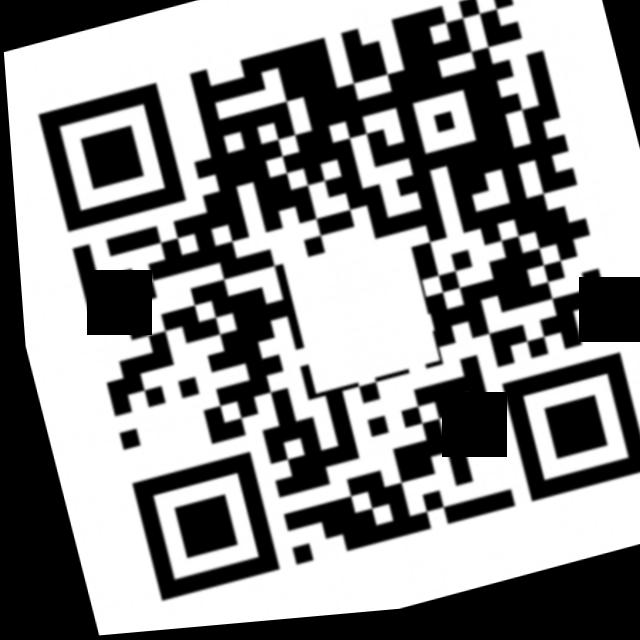QR_CODE: (12, 0, 640, 628)
